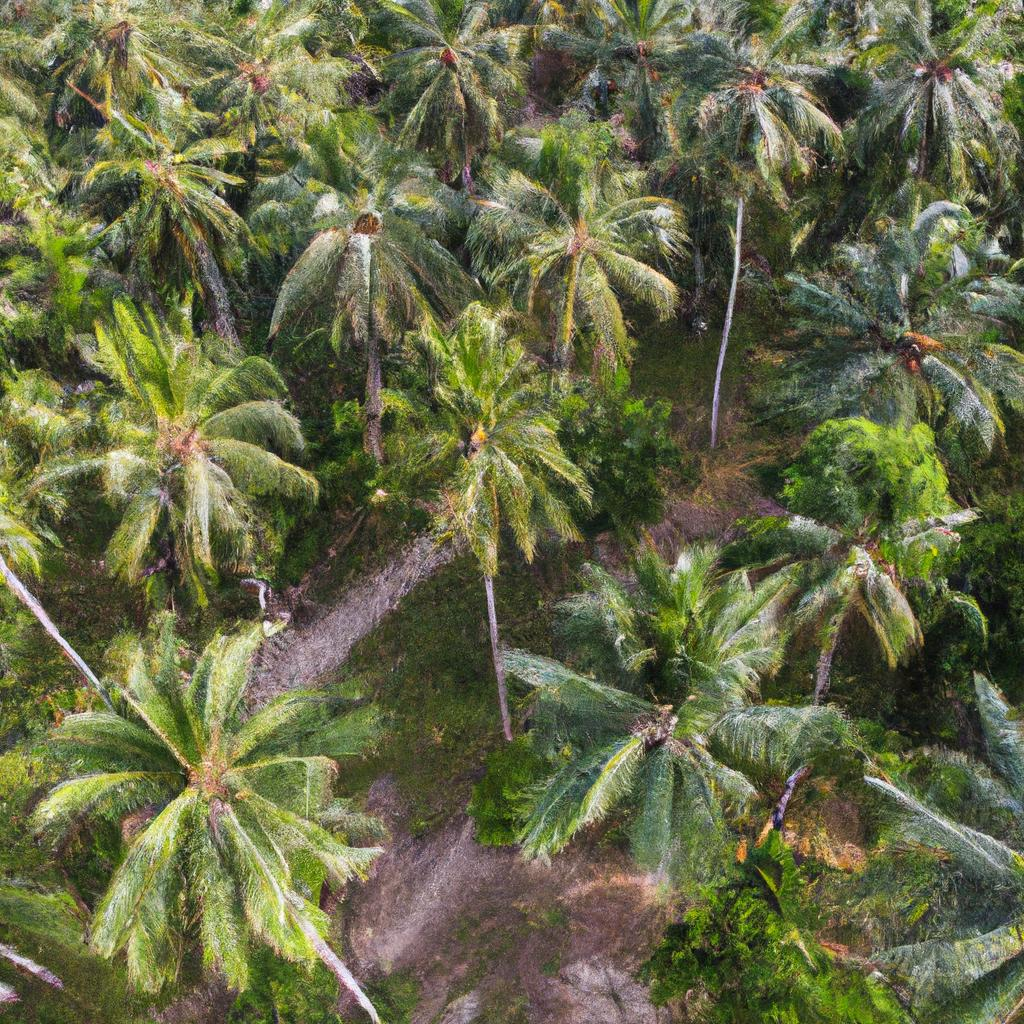coconut_tree: (35, 621, 407, 991), (508, 554, 862, 893), (494, 564, 837, 896), (48, 288, 345, 607), (367, 310, 611, 554), (469, 132, 723, 354), (474, 128, 717, 350), (267, 128, 489, 348), (78, 94, 272, 281)
